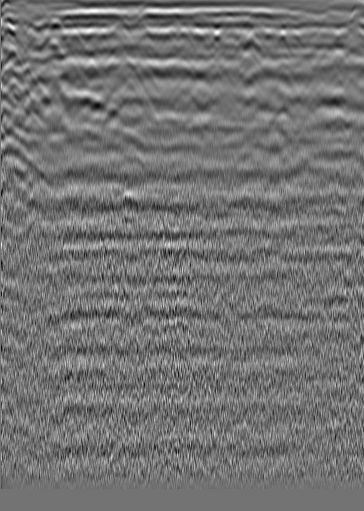가스: (112, 188, 145, 218)
상수: (34, 28, 54, 48)
오수: (317, 20, 337, 40)
우수: (172, 29, 192, 49)
